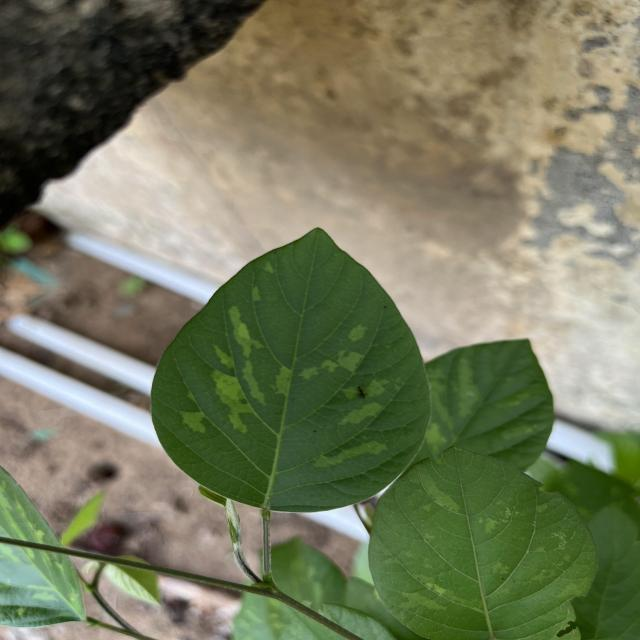Desmodium gangeticum: (144, 221, 438, 518), (364, 438, 601, 640)
